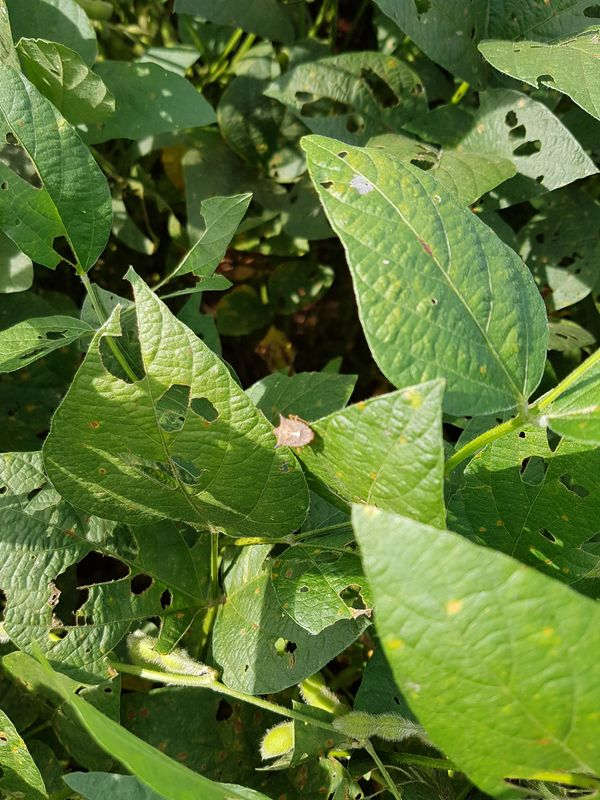Euschistus_heros_adulto: (261, 404, 328, 465)
